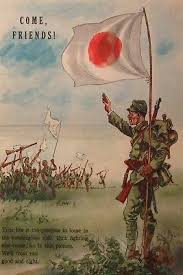Japanese Flag: (66, 9, 155, 88)
